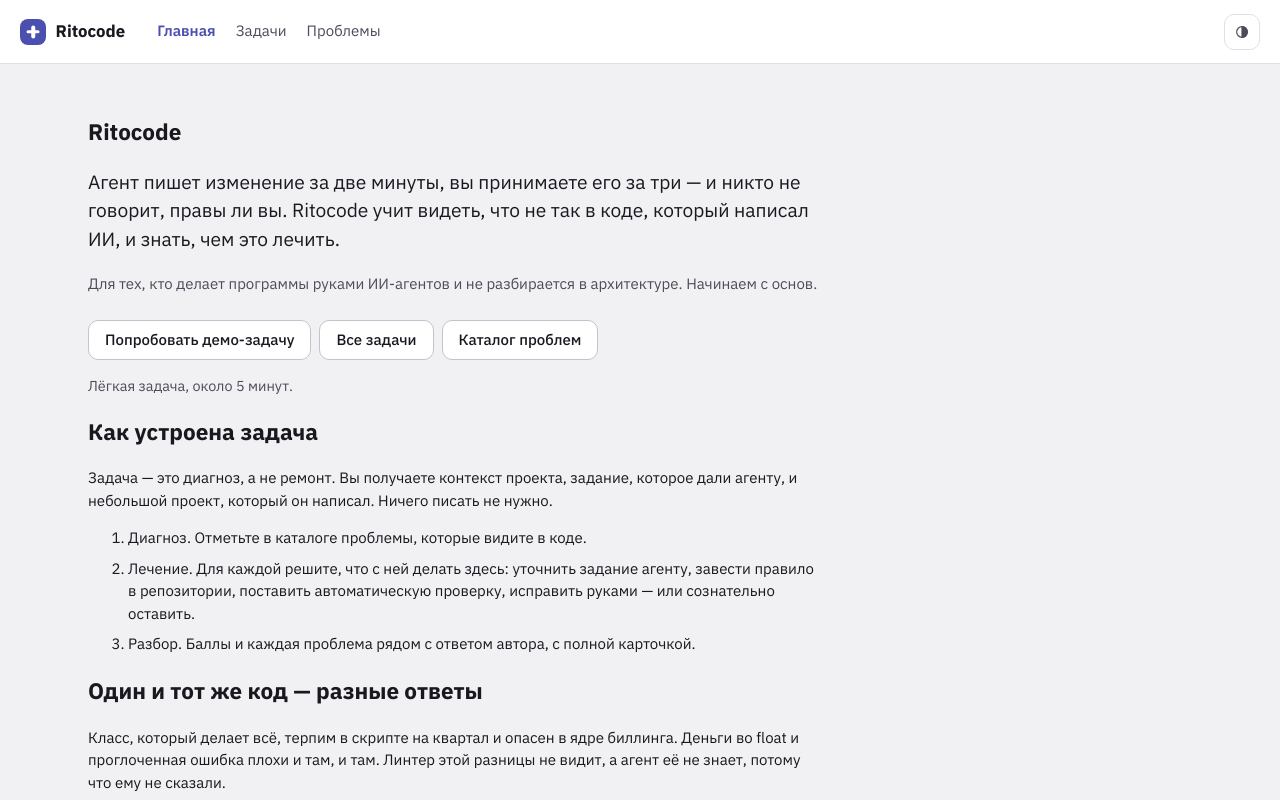
Test: the landing page › opens the demo task for a visitor who is not signed in
Click the link "Попробовать демо-задачу": x=200, y=340 [88,320,311,360]
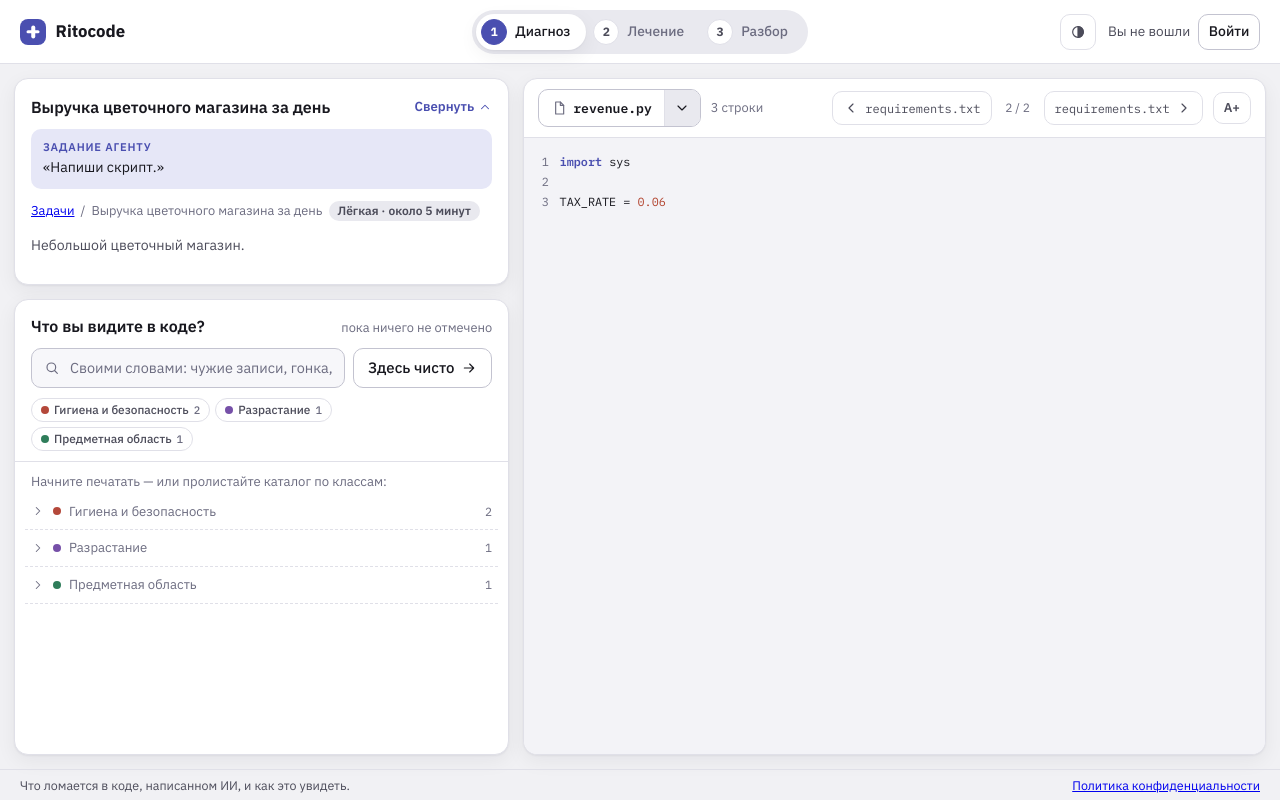
Now the heading "Выручка цветочного магазина за день" is shown, box [31,95,330,119]
Now the text "Вы не вошли" is shown, box [1108,21,1190,42]
